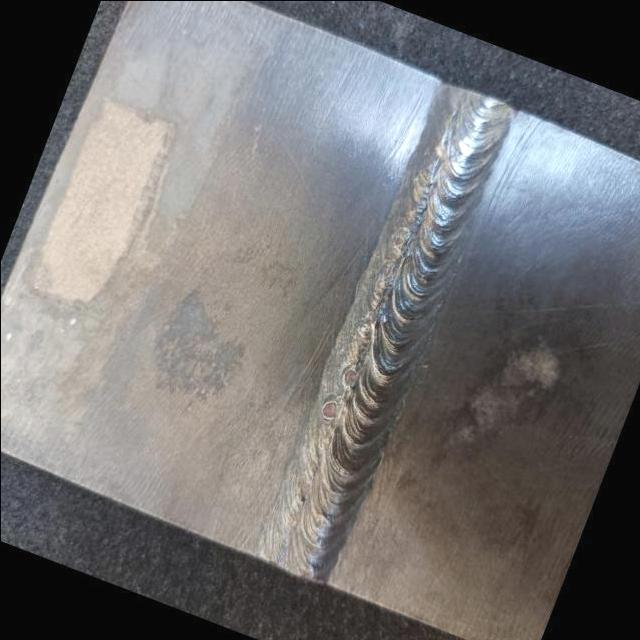defect: (316, 396, 340, 425), (340, 363, 363, 392), (374, 262, 394, 287), (390, 230, 410, 254), (295, 492, 309, 508)
